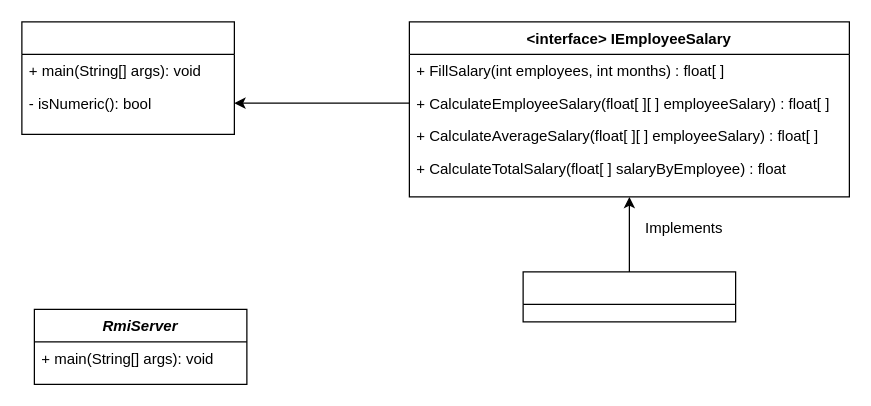
Image size: 871x406. Some labels were removed from this diagram. Each missing label, with the box of its shape:
EmployeeSalaryService: (522, 271, 736, 322)
RmiClient: (21, 21, 234, 134)
